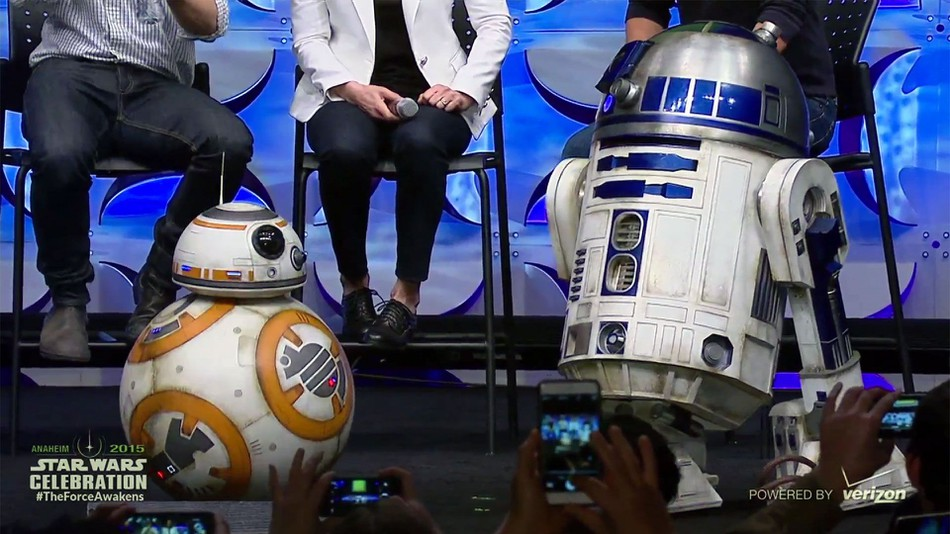r2d2: (545, 22, 917, 512)
